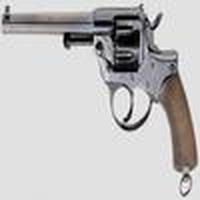gun: (3, 5, 200, 190)
